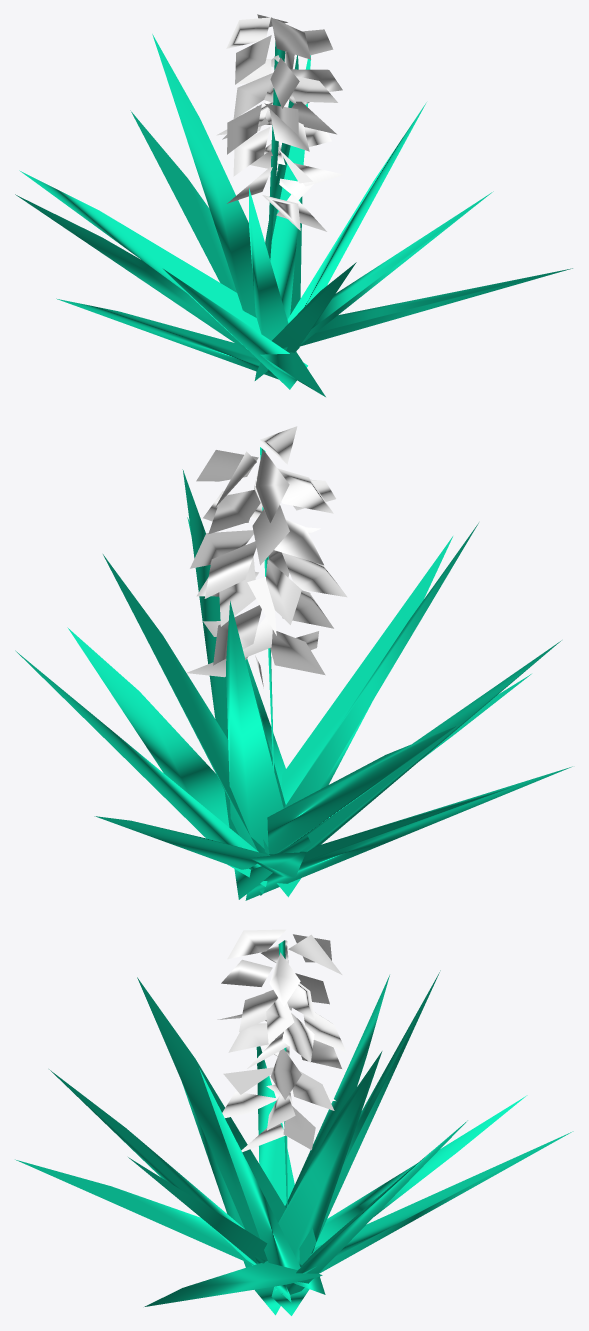
File: Yucca_LOD2.obj
The picture shows the model from 3 angles, top to bottom: view 1: azimuth 30°, elevation 25°; view 2: azimuth 150°, elevation 25°; view 3: azimuth 270°, elevation 25°; orthographic projection. The views are drawn at different scales.
Parts seen in each view (by area): view 1: Yucca_LOD2; view 2: Yucca_LOD2; view 3: Yucca_LOD2.
Boxes of the visible parts, x1=… form: Yucca_LOD2: x1=15, y1=14, x2=572, y2=396; Yucca_LOD2: x1=15, y1=426, x2=572, y2=900; Yucca_LOD2: x1=15, y1=929, x2=573, y2=1315.
Bounding box in the file's own units: 181 × 139 × 186.
